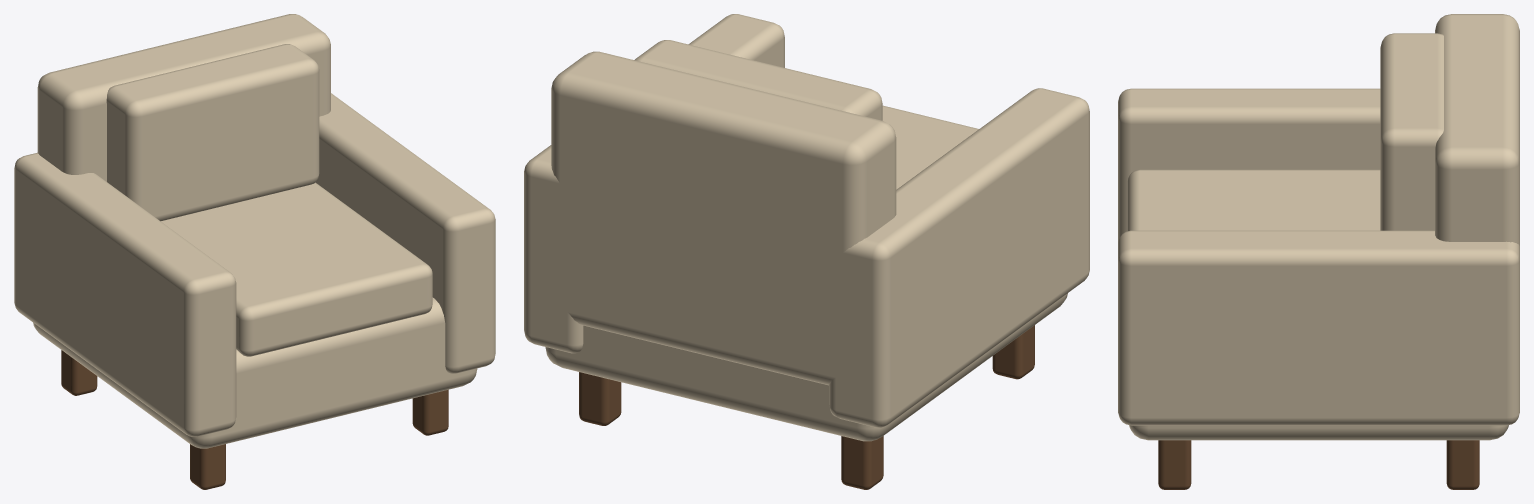
Rendered from arc-chair.glb.
The picture shows the model from 3 angles, left to right: view 1: azimuth 30°, elevation 25°; view 2: azimuth 150°, elevation 25°; view 3: azimuth 270°, elevation 25°; orthographic projection. The views are drawn at different scales.
Visible parts, largest first — view 1: Arm (×2), Back cushion, Seat cushion, Base, Back, Leg (×3); view 2: Back, Arm (×2), Base, Back cushion, Leg (×3), Seat cushion; view 3: Arm (×2), Back, Seat cushion, Back cushion, Base, Leg (×2).
Boxes of the visible parts, x1=… form: Arm (×2): x1=14, y1=93, x2=495, y2=436; Back cushion: x1=106, y1=44, x2=319, y2=221; Seat cushion: x1=161, y1=182, x2=432, y2=356; Base: x1=33, y1=297, x2=477, y2=448; Back: x1=37, y1=14, x2=330, y2=181; Leg (×3): x1=61, y1=350, x2=448, y2=489; Back: x1=551, y1=51, x2=896, y2=385; Arm (×2): x1=524, y1=14, x2=1089, y2=427; Base: x1=545, y1=293, x2=1067, y2=441; Back cushion: x1=634, y1=40, x2=882, y2=120; Leg (×3): x1=579, y1=325, x2=1034, y2=489; Seat cushion: x1=882, y1=105, x2=978, y2=189; Arm (×2): x1=1118, y1=88, x2=1519, y2=425; Back: x1=1435, y1=14, x2=1519, y2=246; Seat cushion: x1=1127, y1=169, x2=1380, y2=231; Back cushion: x1=1380, y1=33, x2=1443, y2=230; Base: x1=1129, y1=425, x2=1508, y2=440; Leg (×2): x1=1158, y1=440, x2=1479, y2=489.
Bounding box in the file's own units: 0.85 × 0.8 × 0.85.
